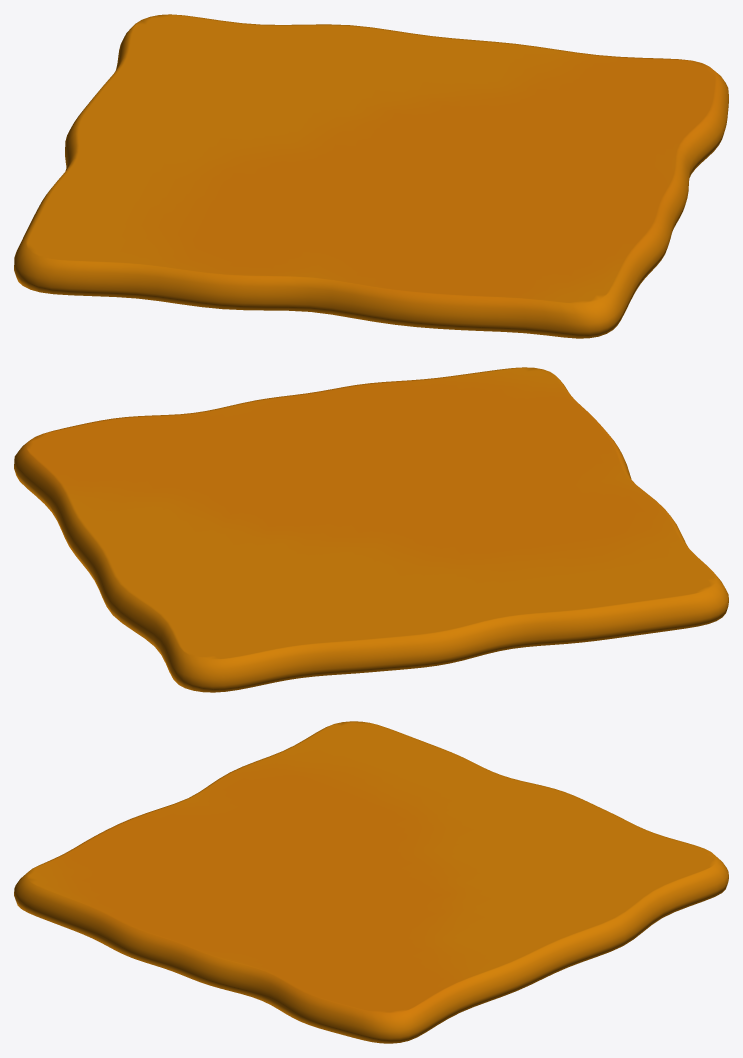
File: testmodelsCube_104.fbx
3 views of the same model, one above another, from view 1: azimuth 30°, elevation 25°; view 2: azimuth 150°, elevation 25°; view 3: azimuth 270°, elevation 25° (orthographic). The views are drawn at different scales.
Parts seen in each view (by area): view 1: Cube.104; view 2: Cube.104; view 3: Cube.104.
Part boxes in pixels (x1=…): Cube.104: x1=14, y1=14, x2=728, y2=338; Cube.104: x1=14, y1=367, x2=728, y2=692; Cube.104: x1=14, y1=721, x2=728, y2=1043.
Size of the model in its own units: 663 by 26.65 by 662.
